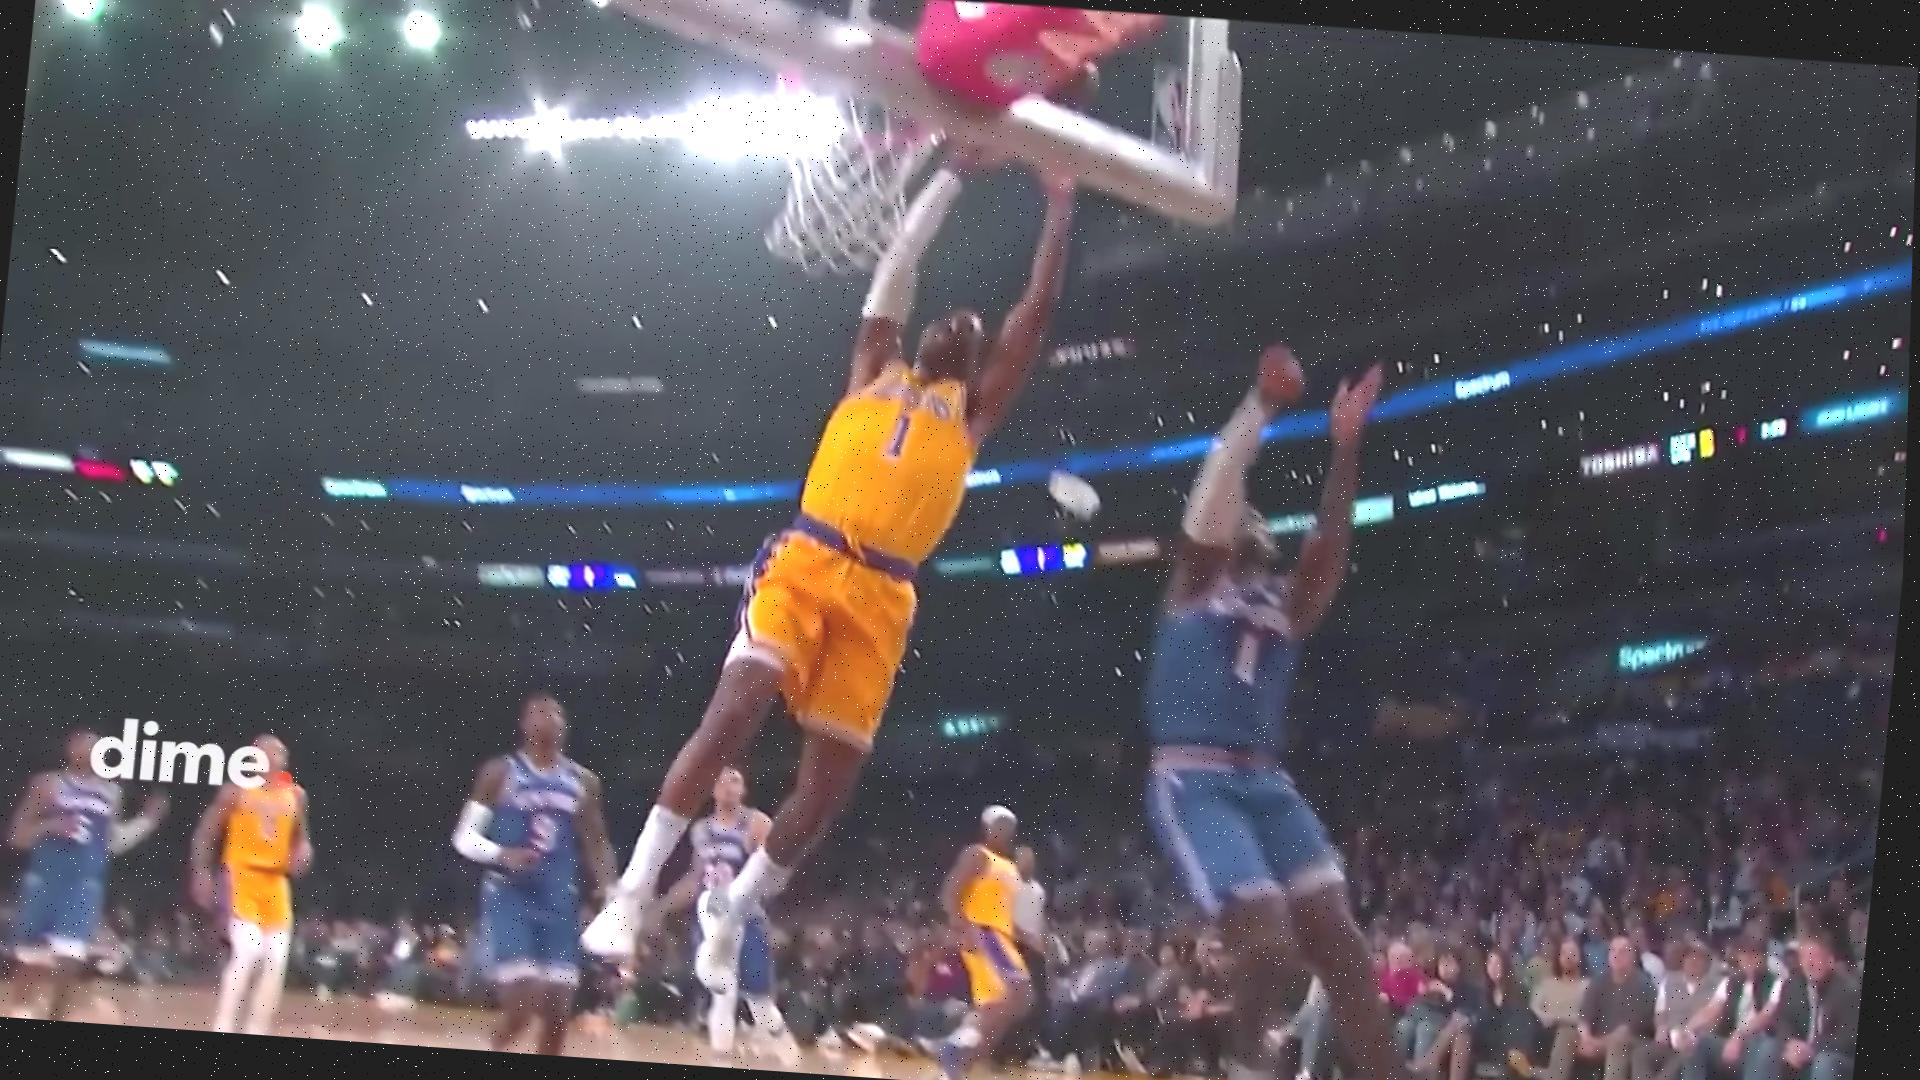no_foul: (549, 258, 1491, 1080)
